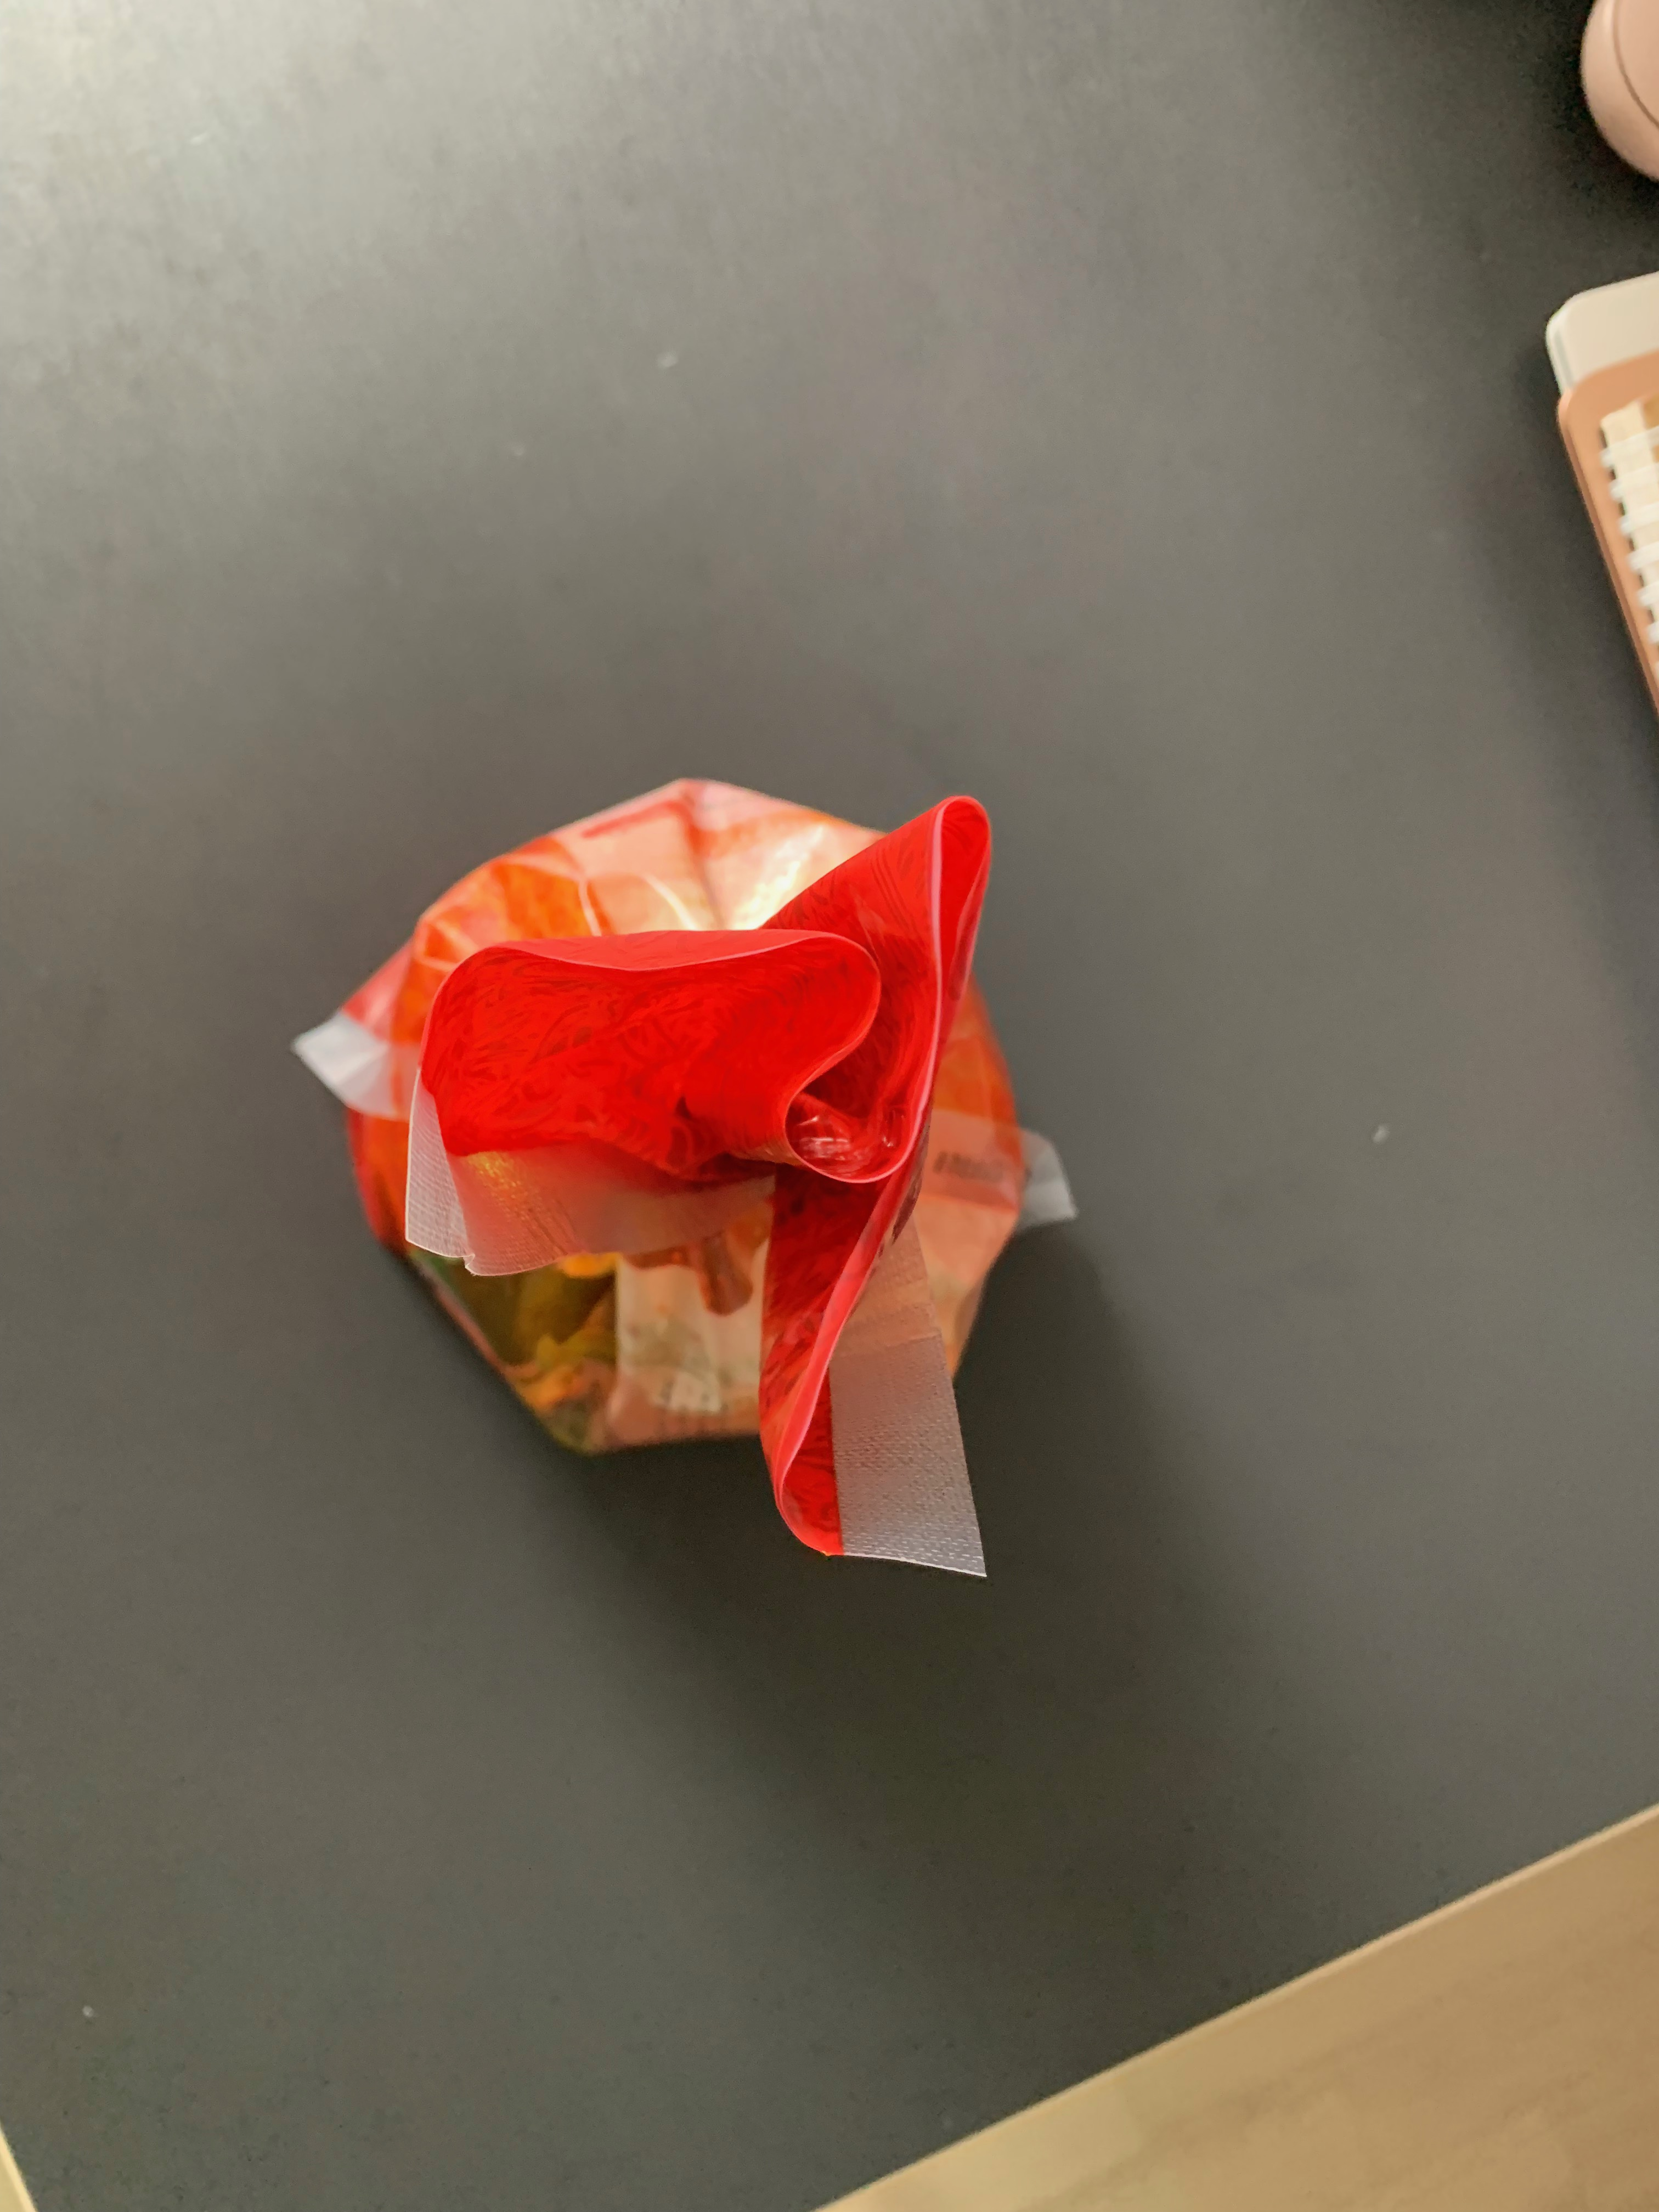kimchi: (343, 777, 1025, 1559)
